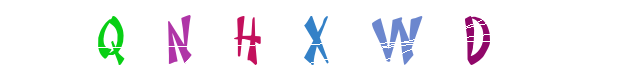D: (334, 0, 414, 80)
H: (247, 0, 327, 80)
N: (172, 0, 252, 80)
Q: (71, 0, 151, 80)
W: (328, 0, 408, 80)
X: (276, 0, 356, 80)
